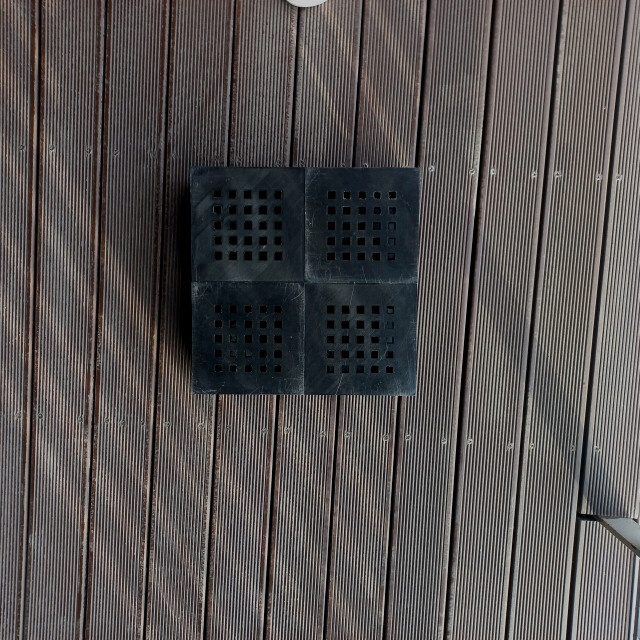pallet: (181, 169, 423, 399)
